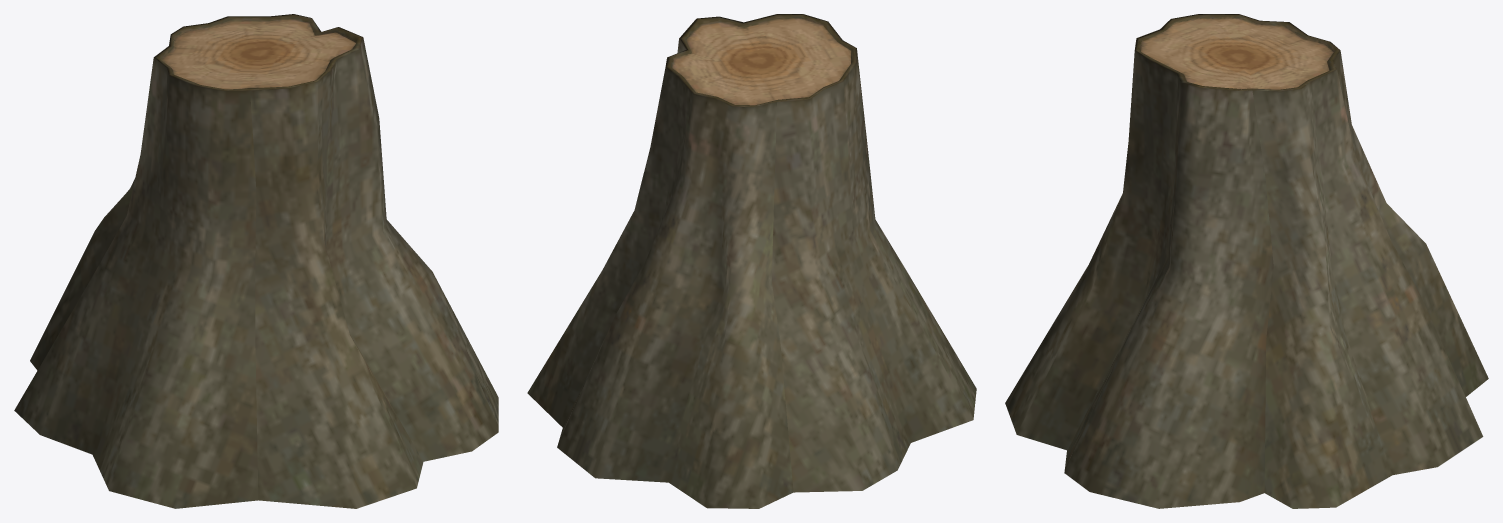
The picture shows the model from 3 angles, left to right: view 1: azimuth 30°, elevation 25°; view 2: azimuth 150°, elevation 25°; view 3: azimuth 270°, elevation 25°; orthographic projection. The views are drawn at different scales.
Parts seen in each view (by area): view 1: um_t1_pl035_model_t1_pl035_modelShape; view 2: um_t1_pl035_model_t1_pl035_modelShape; view 3: um_t1_pl035_model_t1_pl035_modelShape.
Part boxes in pixels (<box>): um_t1_pl035_model_t1_pl035_modelShape: <box>14,14,498,508</box>; um_t1_pl035_model_t1_pl035_modelShape: <box>527,14,976,508</box>; um_t1_pl035_model_t1_pl035_modelShape: <box>1005,14,1488,508</box>.
Size of the model in its own units: 1.67 by 1.53 by 1.82.
Materials: 1 (1 with a texture image).
